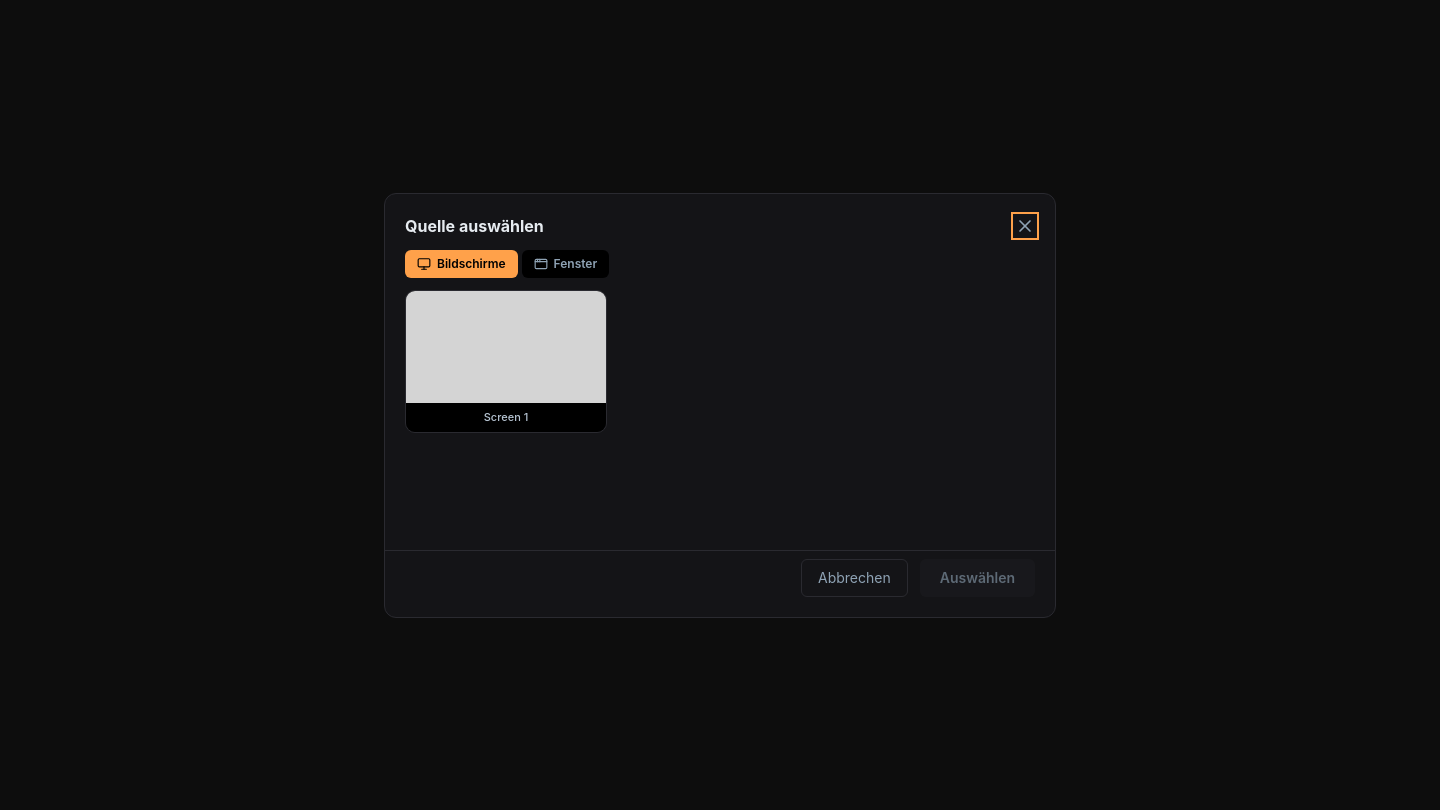
it: SourcePickerModal › renders window sources when windows tab is active
Check: the text "Screen 1" is shown, box [484,410,528,424]
Click the button "Fenster" at (565, 264), box [522,250,609,278]
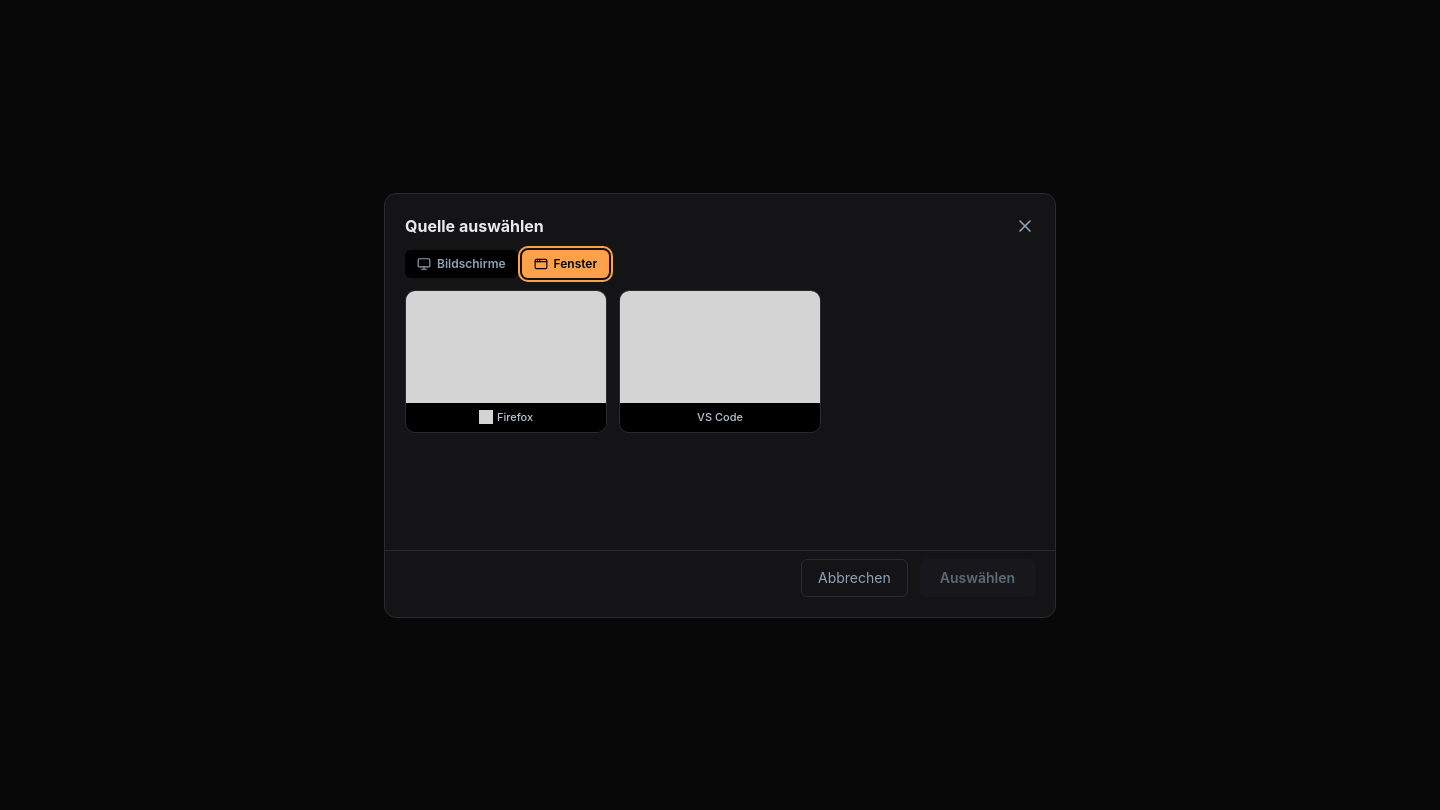
Check: the text "Firefox" is shown, box [479,410,533,424]
Check: the text "VS Code" is shown, box [697,410,743,424]
Check: the button "Screen 1" is gone
